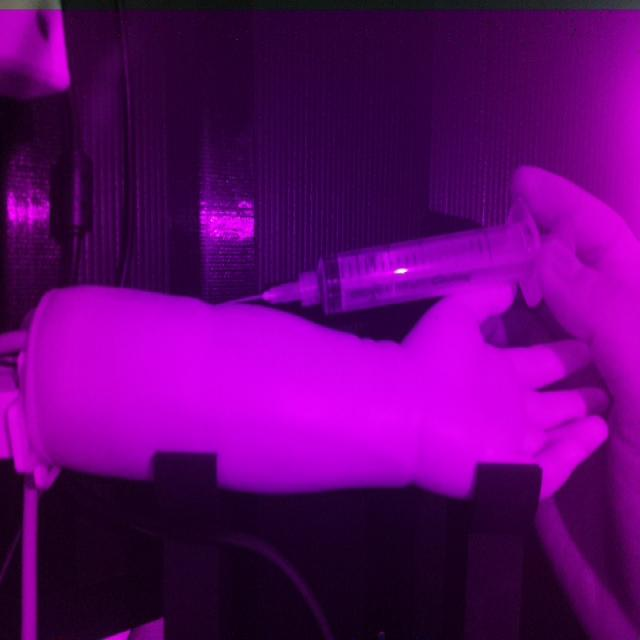Outside: (251, 214, 545, 318)
